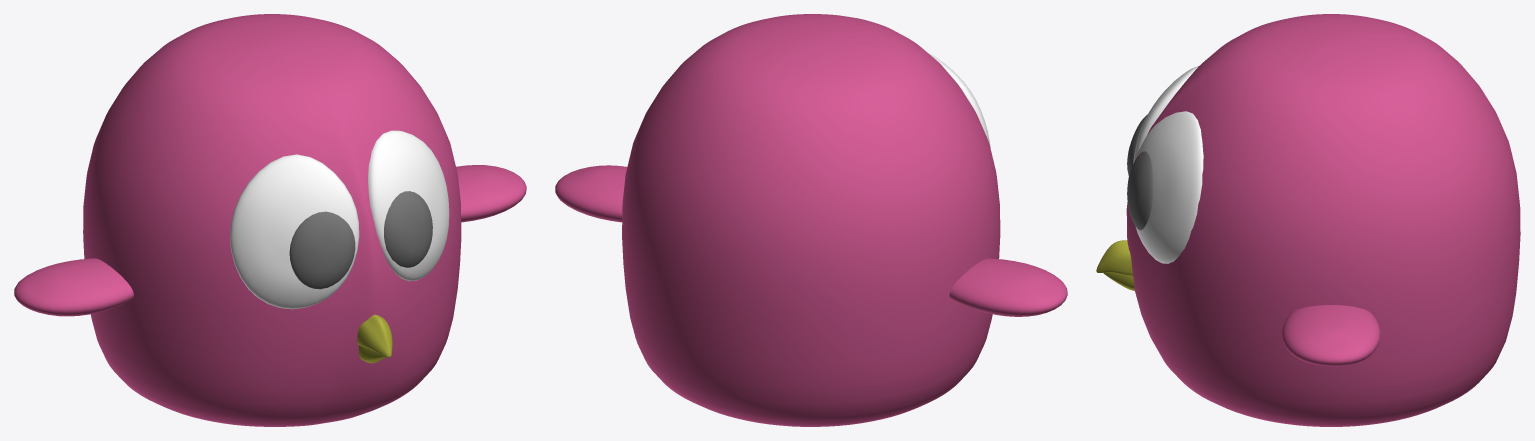
The model's file is bird.fbx.
The picture shows the model from 3 angles, left to right: view 1: azimuth 30°, elevation 25°; view 2: azimuth 150°, elevation 25°; view 3: azimuth 270°, elevation 25°; orthographic projection.
Parts seen in each view (by area): view 1: polySurface8, polySurface5, polySurface4, pSphere1, polySurface7, pSphere2, polySurface3, pCube1; view 2: polySurface8, pSphere1, pSphere2, polySurface5; view 3: polySurface8, polySurface4, pSphere2, polySurface3, polySurface5, pCube1.
Boxes of the visible parts, bbox=[...] form: polySurface8: bbox=[83, 14, 461, 426]; polySurface5: bbox=[230, 154, 359, 309]; polySurface4: bbox=[367, 130, 449, 281]; pSphere1: bbox=[14, 258, 133, 316]; polySurface7: bbox=[289, 211, 355, 289]; pSphere2: bbox=[456, 165, 526, 222]; polySurface3: bbox=[384, 191, 432, 267]; pCube1: bbox=[357, 314, 392, 357]; polySurface8: bbox=[622, 14, 1000, 426]; pSphere1: bbox=[949, 258, 1067, 316]; pSphere2: bbox=[555, 165, 627, 222]; polySurface5: bbox=[929, 53, 990, 147]; polySurface8: bbox=[1126, 14, 1520, 426]; polySurface4: bbox=[1136, 111, 1203, 263]; pSphere2: bbox=[1282, 305, 1380, 366]; polySurface3: bbox=[1127, 151, 1153, 230]; polySurface5: bbox=[1133, 66, 1198, 163]; pCube1: bbox=[1096, 240, 1132, 275].
Bounding box in the file's own units: 3 × 1.97 × 2.2.
